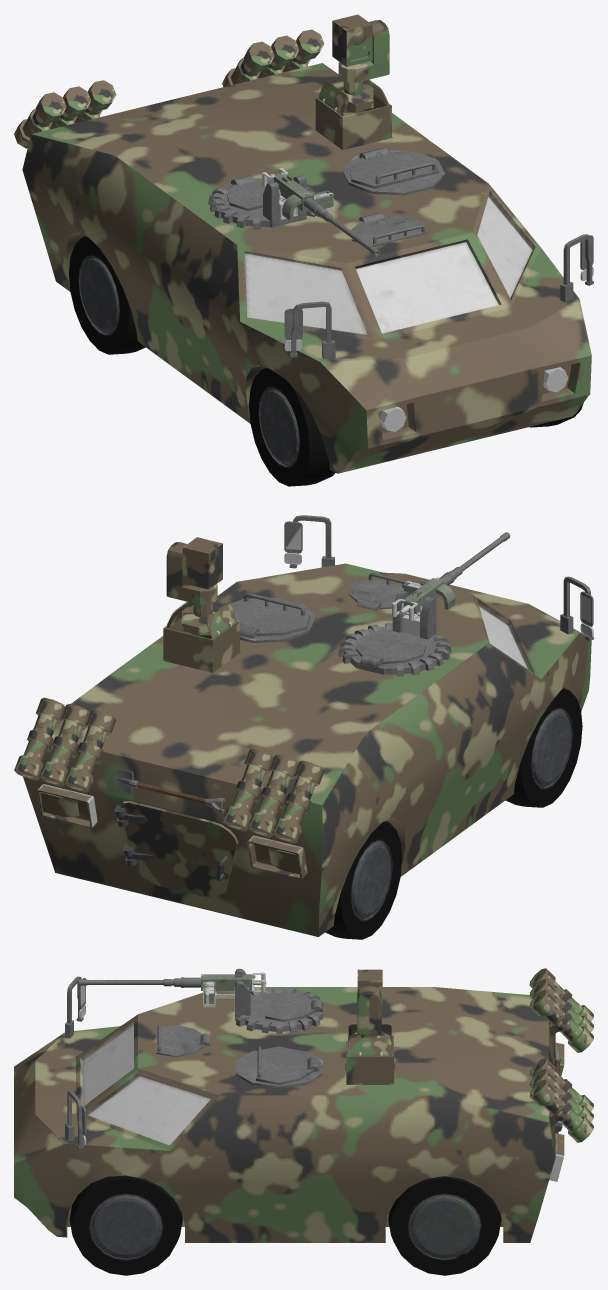
Rendered from Fennek.fbx.
3 renders of one model, top to bottom at view 1: azimuth 30°, elevation 25°; view 2: azimuth 150°, elevation 25°; view 3: azimuth 270°, elevation 25°, orthographic. The views are drawn at different scales.
Parts seen in each view (by area): view 1: polySurface478, polySurface537, polySurface405, polySurface406; view 2: polySurface478, polySurface537, polySurface545, polySurface405, polySurface406; view 3: polySurface478, polySurface537, polySurface403, polySurface404.
Boxes of the visible parts, x1,y1,x2,y2 form: polySurface478: [14, 29, 591, 473]; polySurface537: [208, 14, 593, 431]; polySurface405: [249, 367, 335, 486]; polySurface406: [69, 236, 145, 354]; polySurface478: [14, 563, 591, 936]; polySurface537: [37, 515, 593, 879]; polySurface545: [114, 801, 238, 897]; polySurface405: [505, 688, 582, 807]; polySurface406: [325, 821, 402, 939]; polySurface478: [14, 968, 593, 1242]; polySurface537: [65, 968, 564, 1181]; polySurface403: [69, 1175, 182, 1275]; polySurface404: [388, 1176, 501, 1275].
Bounding box in the file's own units: 21.88 × 21.02 × 40.25.
Materials: 2 (2 with a texture image).
